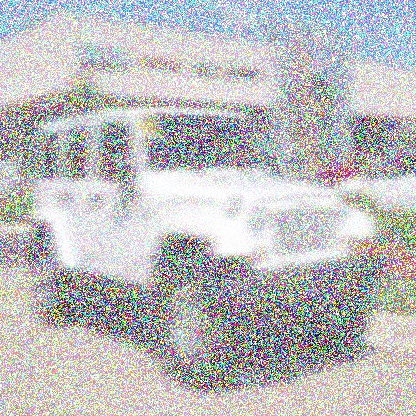Vehicle: (31, 105, 388, 396)
